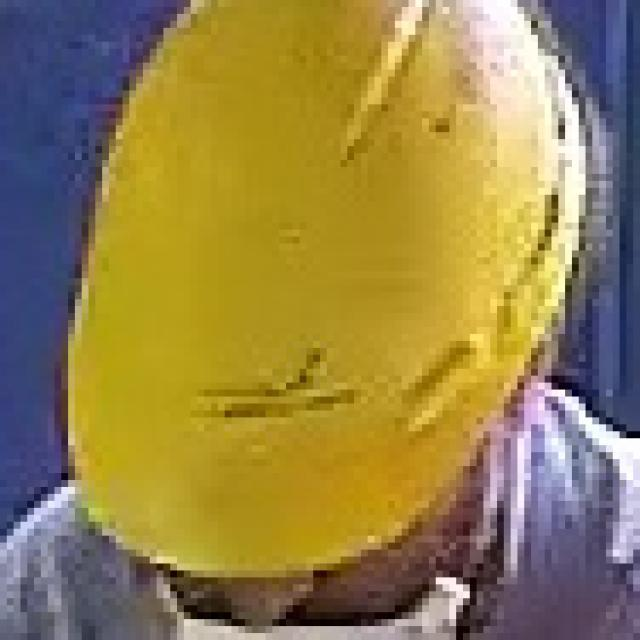yellow helmet: (63, 1, 600, 576)
